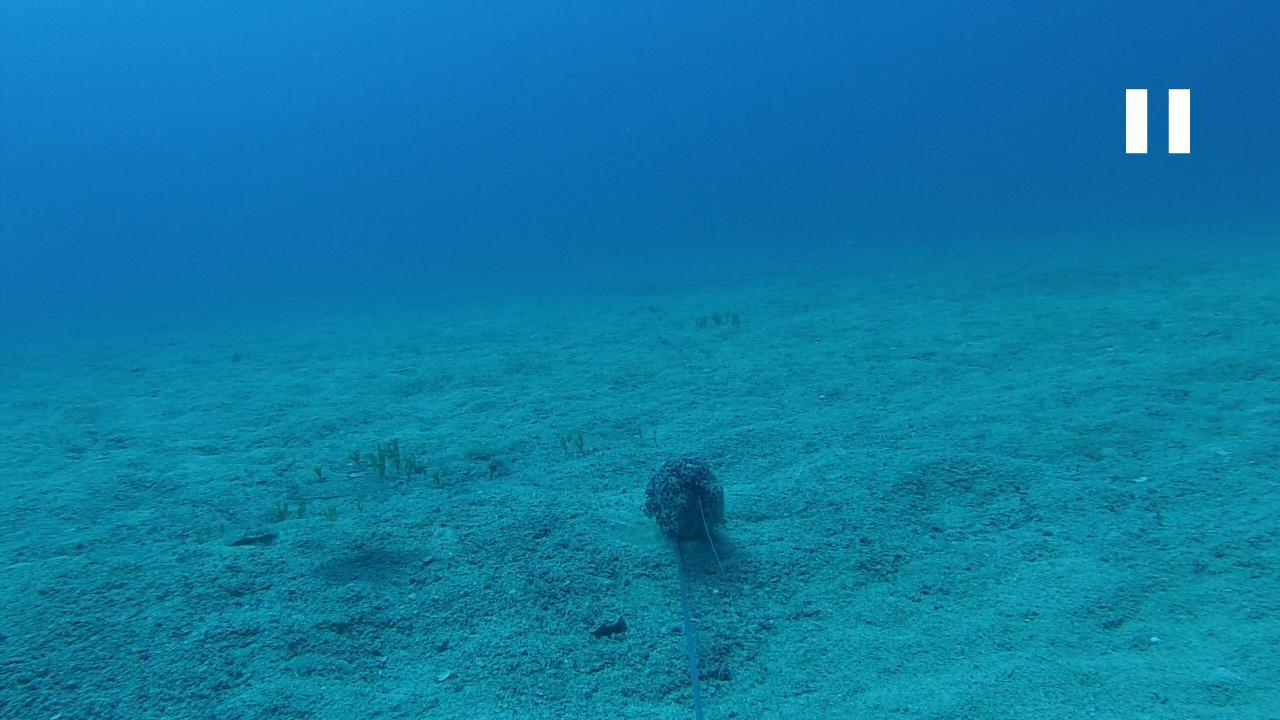bothus: (280, 468, 386, 504)
